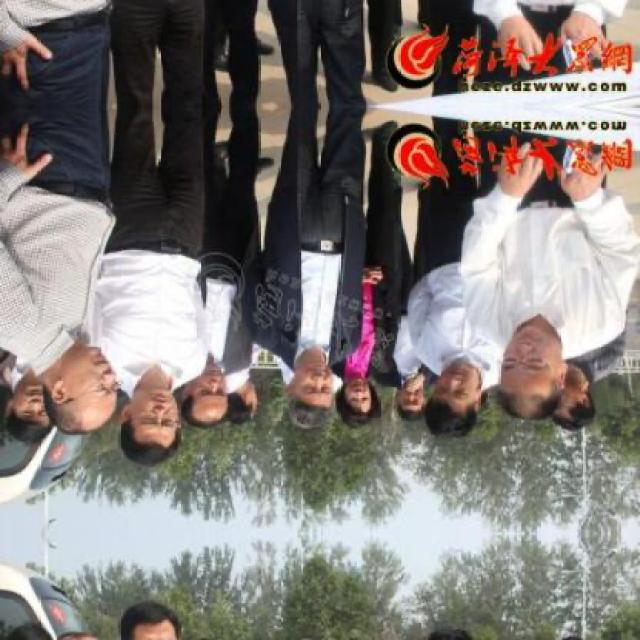sin casco: (8, 310, 130, 440), (474, 293, 596, 412), (78, 370, 194, 464), (312, 368, 414, 454), (139, 362, 234, 445), (264, 346, 354, 416), (396, 378, 474, 448)
